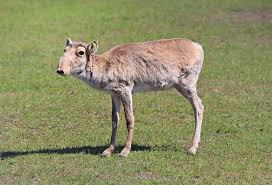saiga: (55, 36, 207, 158)
